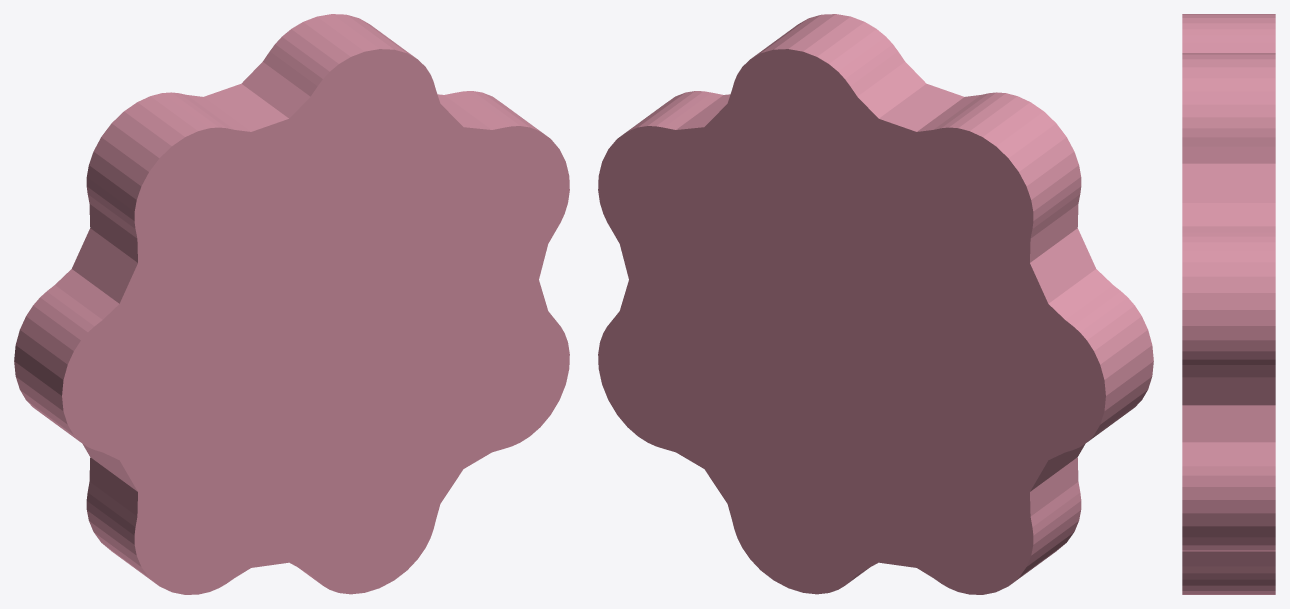
The model's file is trochoid_profile_2d_demo.glb.
The picture shows the model from 3 angles, left to right: view 1: azimuth 30°, elevation 25°; view 2: azimuth 150°, elevation 25°; view 3: azimuth 270°, elevation 25°; orthographic projection. The views are drawn at different scales.
Parts seen in each view (by area): view 1: trochoid_disc; view 2: trochoid_disc; view 3: trochoid_disc.
Part boxes in pixels (x1,y1,x2,y2): trochoid_disc: [14, 14, 569, 594]; trochoid_disc: [598, 14, 1153, 594]; trochoid_disc: [1182, 14, 1275, 594].
Bounding box in the file's own units: 24.49 × 24.94 × 4.
